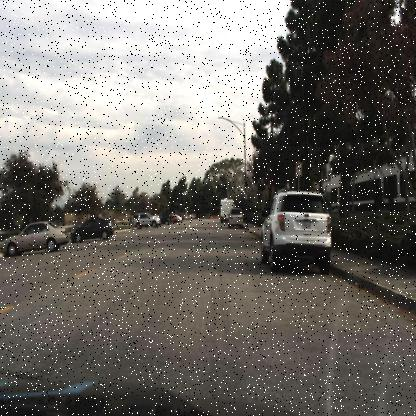car: (258, 189, 333, 277), (0, 217, 69, 260), (68, 214, 114, 246), (74, 214, 116, 242), (130, 210, 161, 233), (226, 206, 244, 230), (228, 206, 245, 230)
